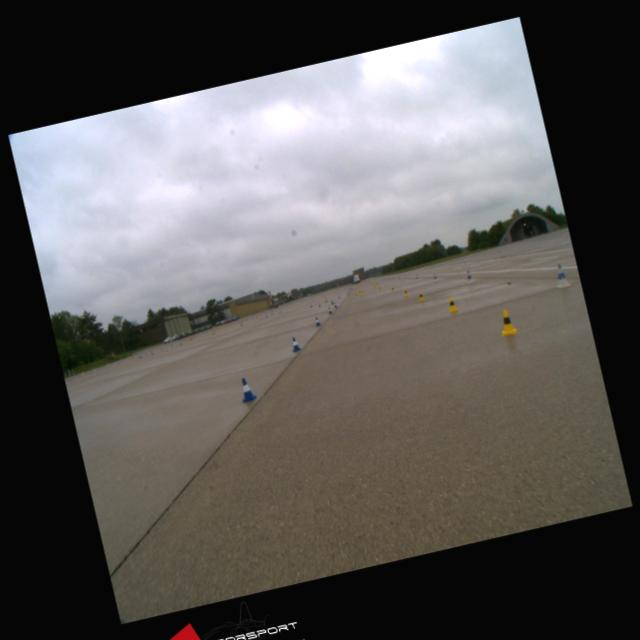blue_cone: (236, 376, 256, 401), (290, 336, 300, 350), (314, 316, 320, 326), (327, 306, 332, 314), (332, 300, 337, 308)
yellow_cone: (496, 308, 518, 336), (445, 296, 457, 312), (417, 290, 424, 300), (404, 288, 408, 296), (390, 286, 395, 292)
